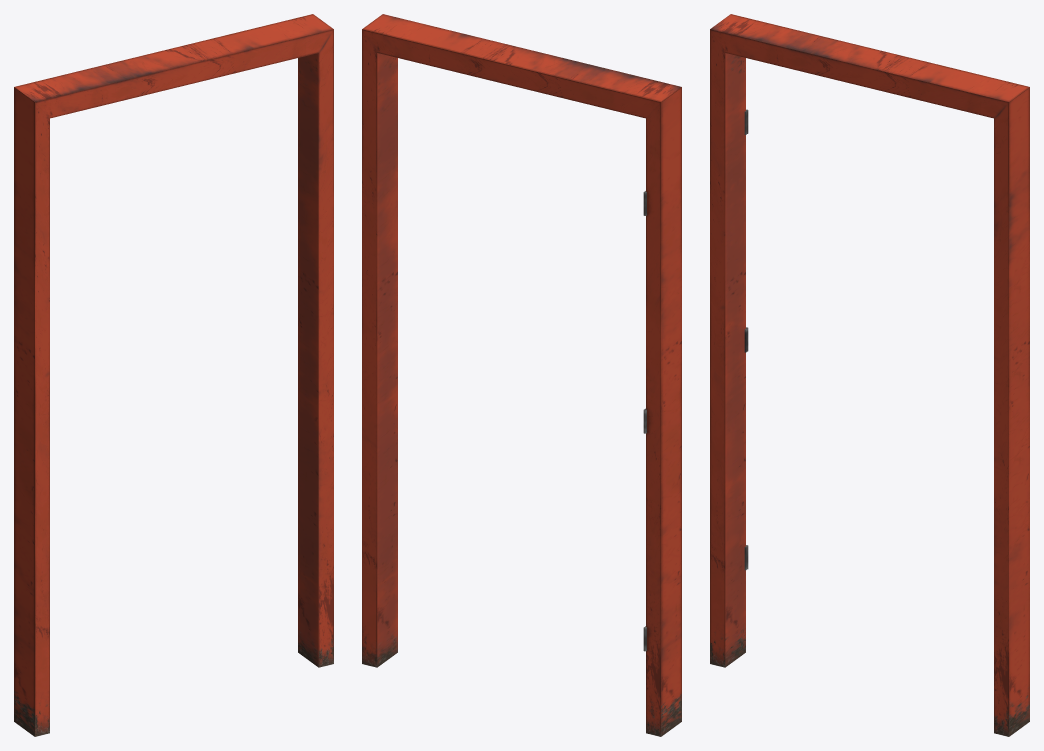
The model's file is SM_Frame_Metal_ARed.glb.
The picture shows the model from 3 angles, left to right: view 1: azimuth 30°, elevation 25°; view 2: azimuth 150°, elevation 25°; view 3: azimuth 330°, elevation 25°; orthographic projection.
Visible parts, largest first — view 1: SM_Frame_Metal_ABlue; view 2: SM_Frame_Metal_ABlue; view 3: SM_Frame_Metal_ABlue.
Part boxes in pixels (left/top/right/bottom): SM_Frame_Metal_ABlue: left=14, top=14, right=333, bottom=736; SM_Frame_Metal_ABlue: left=362, top=14, right=681, bottom=736; SM_Frame_Metal_ABlue: left=710, top=14, right=1029, bottom=736.
Size of the model in its own units: 1.25 by 2.53 by 0.1616.
Materials: 1 (1 with a texture image).
